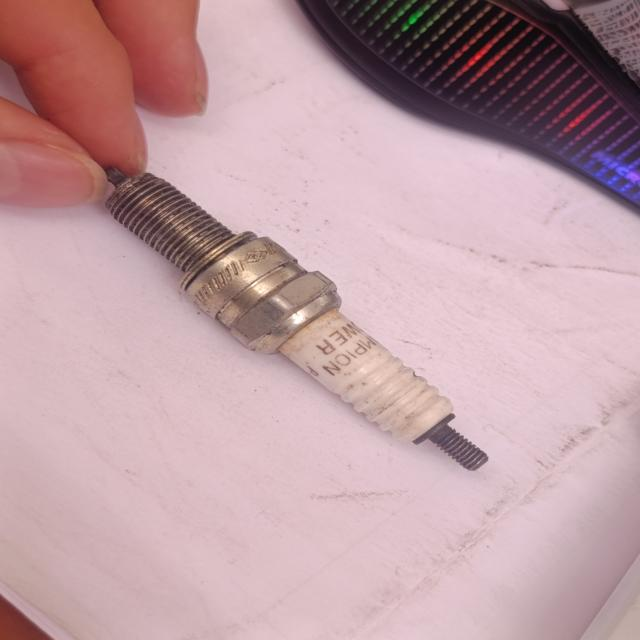bujia: (105, 167, 488, 470)
